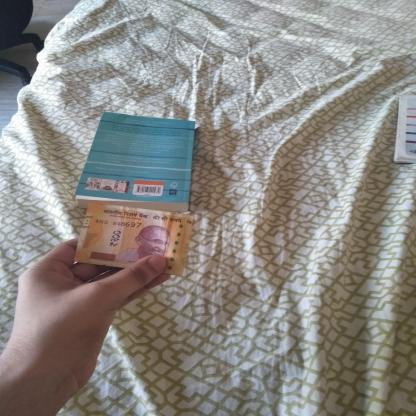New200Front: (78, 204, 189, 268)
